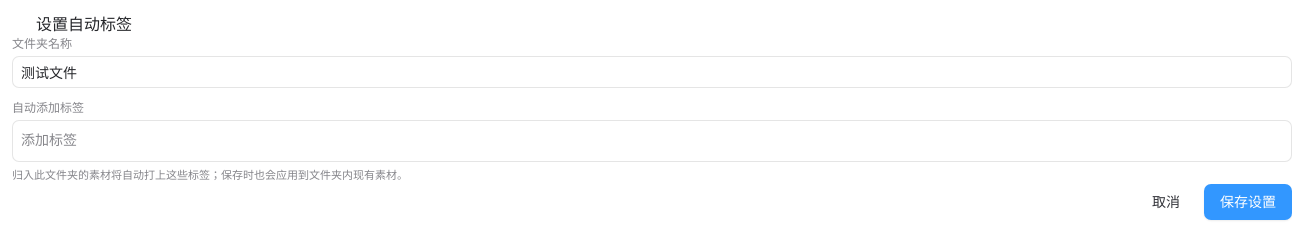
Test: AutoTagModal › 完全未匹配的输入出现「+ 新建」
Type "全新的标签" into the field with placeholder "添加标签". click: point(652, 139)
box: [21,127,1283,151]
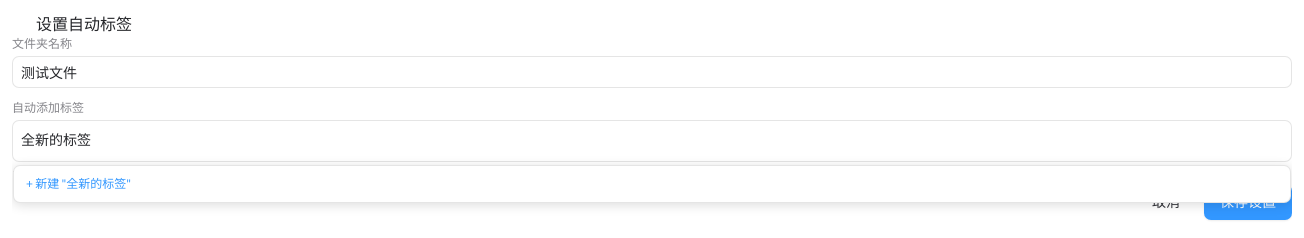
Expected: the text "+ 新建" is shown, [14,170,1290,198]
